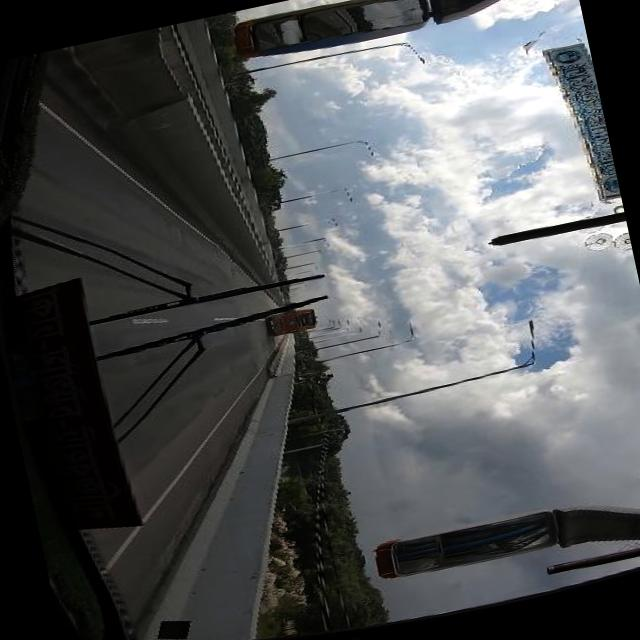bus: (270, 306, 318, 337)
